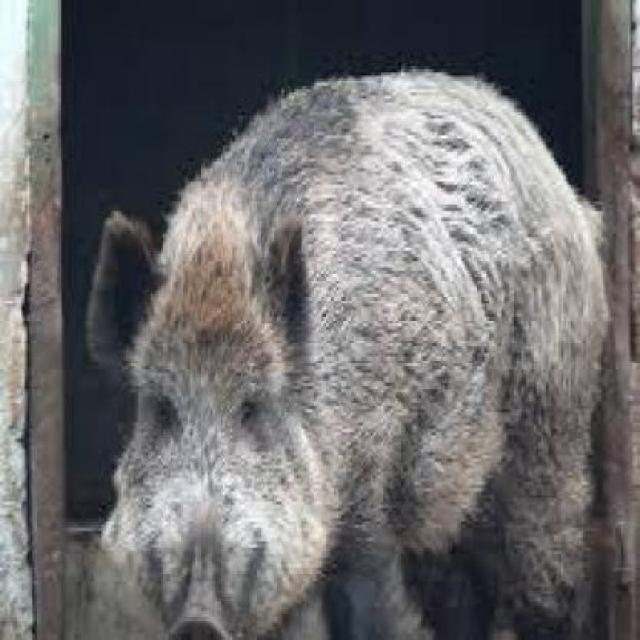Wild Boar: (82, 61, 614, 640)
